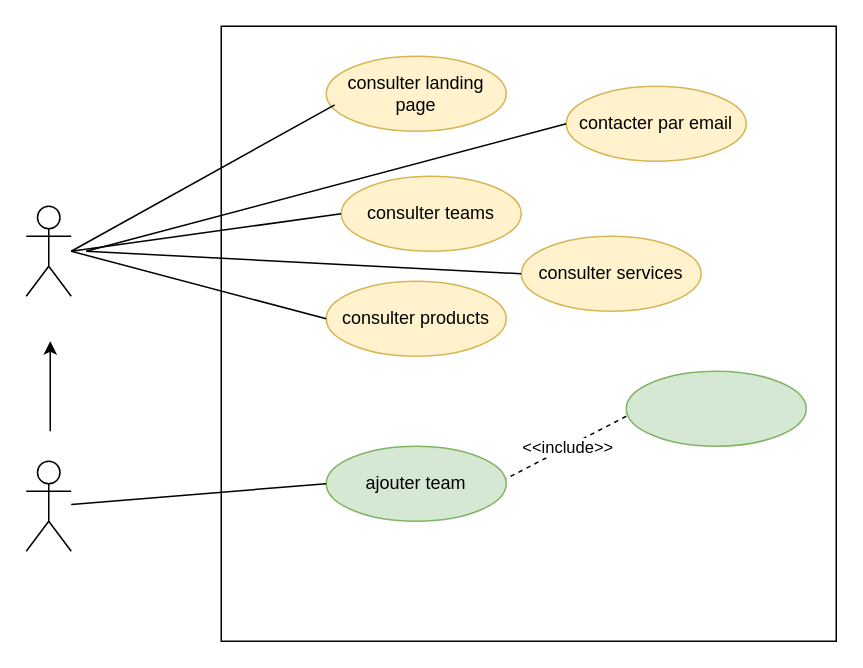
Some shapes in this 863 by 668 pixel diagram are drawn without their labels. The box of each missing label's shape, as (x1, y1, x2, y2) in pixels:
Actor: (25, 460, 71, 551)
log in: (625, 370, 806, 446)
user: (25, 205, 71, 296)
